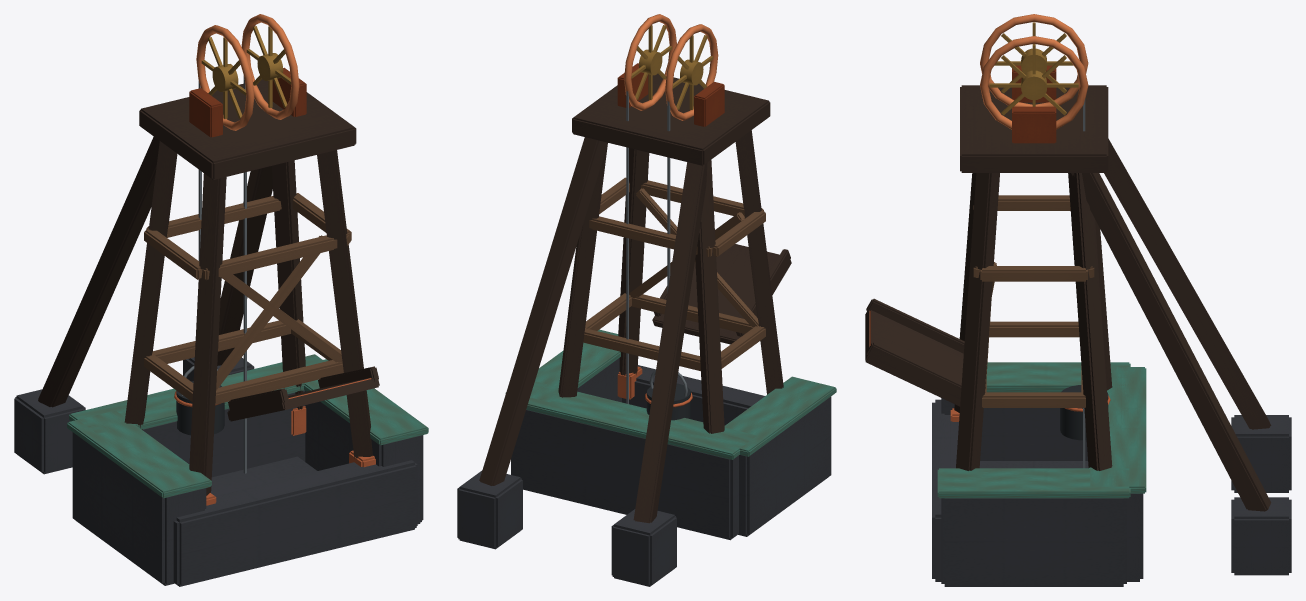
Rendered from mine_shaft_headframe.glb.
The picture shows the model from 3 angles, left to right: view 1: azimuth 30°, elevation 25°; view 2: azimuth 150°, elevation 25°; view 3: azimuth 270°, elevation 25°; orthographic projection. The views are drawn at different scales.
Visible parts, largest first — view 1: mine_shaft_headframe; view 2: mine_shaft_headframe; view 3: mine_shaft_headframe.
Part boxes in pixels (x1,y1,x2,y2): mine_shaft_headframe: (14, 14, 428, 586); mine_shaft_headframe: (457, 14, 836, 586); mine_shaft_headframe: (865, 14, 1291, 586).
Bounding box in the file's own units: 3.32 × 5.93 × 4.59.
Materials: 1 (1 with a texture image).
